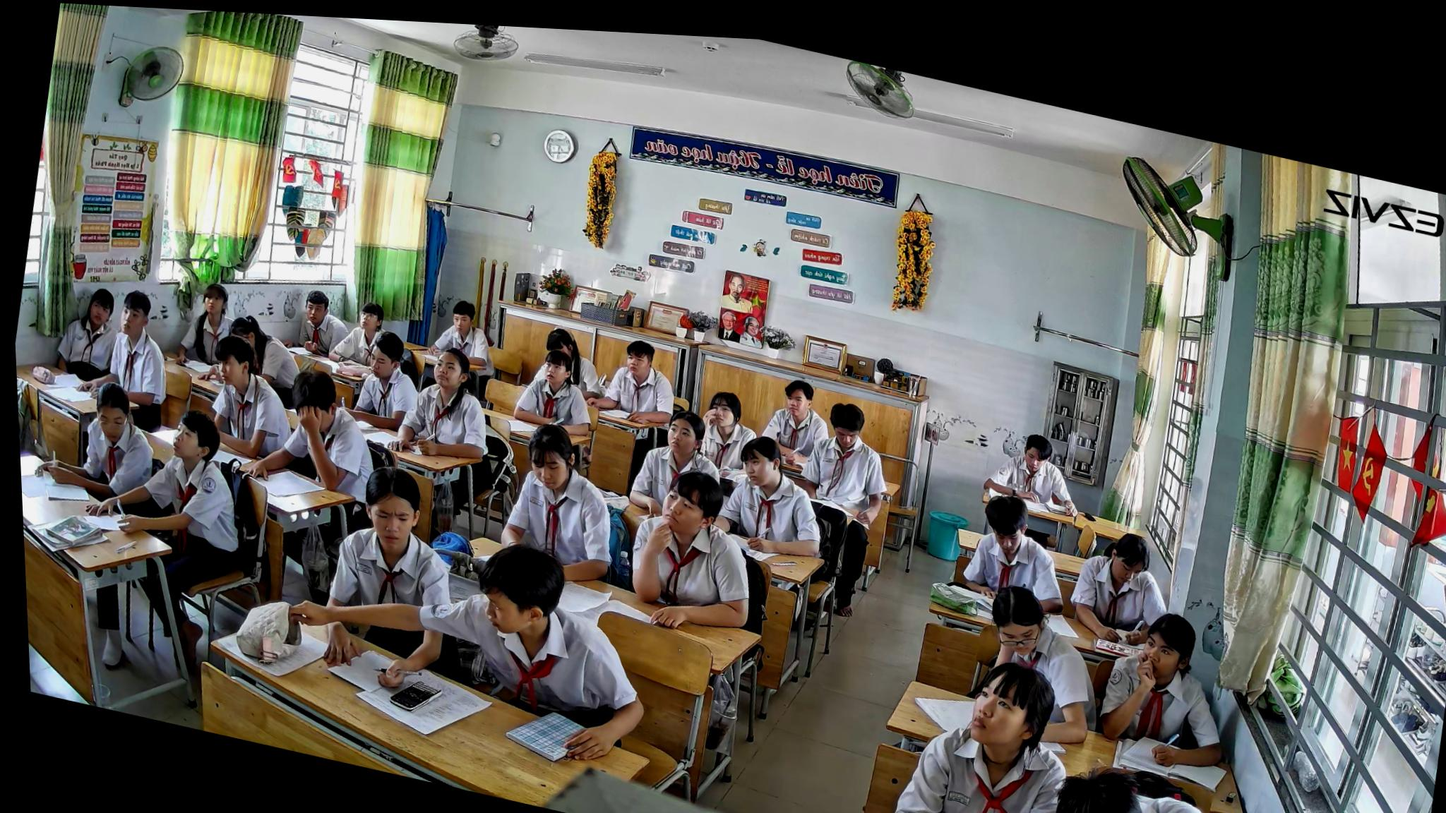person: (268, 493, 671, 777), (53, 386, 267, 695), (308, 456, 475, 701), (873, 638, 1097, 813), (773, 392, 908, 625), (617, 458, 774, 648), (1087, 600, 1246, 781), (228, 355, 392, 528), (964, 578, 1119, 757), (489, 413, 635, 593), (27, 367, 171, 516), (704, 426, 841, 568), (67, 281, 184, 436), (953, 487, 1082, 618), (383, 335, 505, 470), (1062, 521, 1184, 654), (195, 331, 309, 469), (623, 399, 731, 529), (1034, 753, 1239, 813), (977, 423, 1089, 521), (584, 330, 686, 432), (343, 324, 433, 438), (507, 341, 602, 440), (216, 312, 311, 411), (753, 373, 842, 477), (49, 280, 134, 388), (419, 293, 504, 400), (687, 386, 767, 489), (164, 275, 243, 377), (285, 285, 357, 365), (535, 324, 610, 398), (323, 294, 390, 373)
